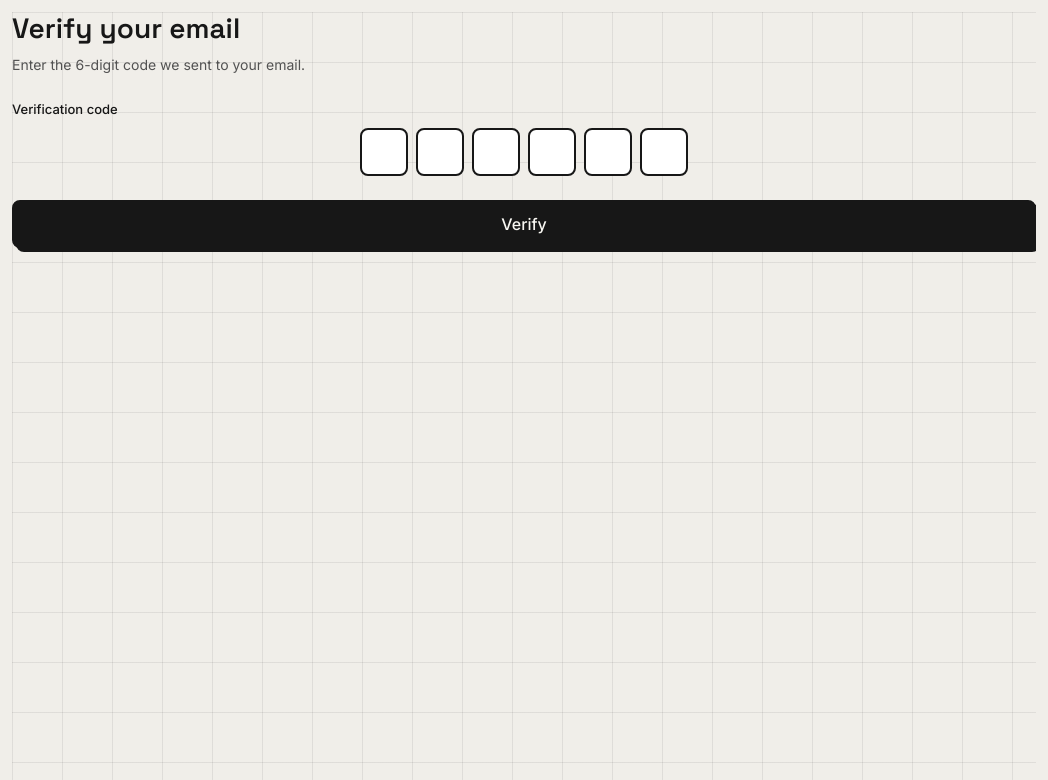
Scenario: OTPVerification › goes back and clears with Backspace on an empty box
The image size is (1048, 780).
Step 1. Click the field named "Digit 1 of 6" → [384, 152], box [362,130,406,174]
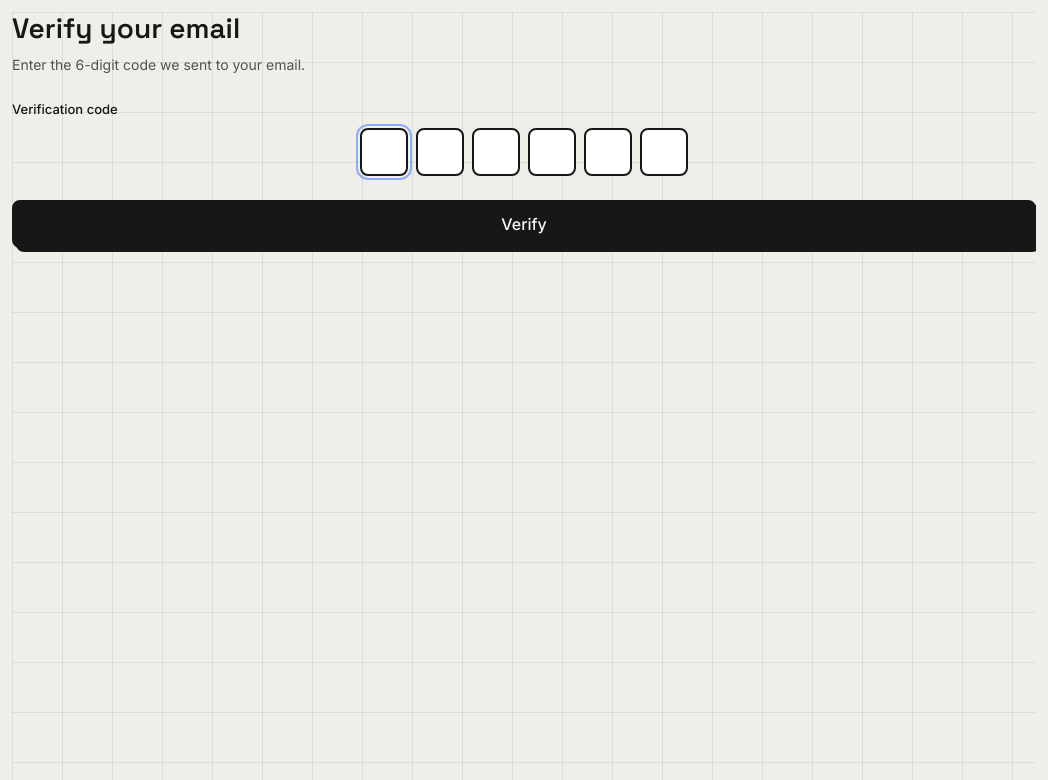
Step 2. Type keys "12"
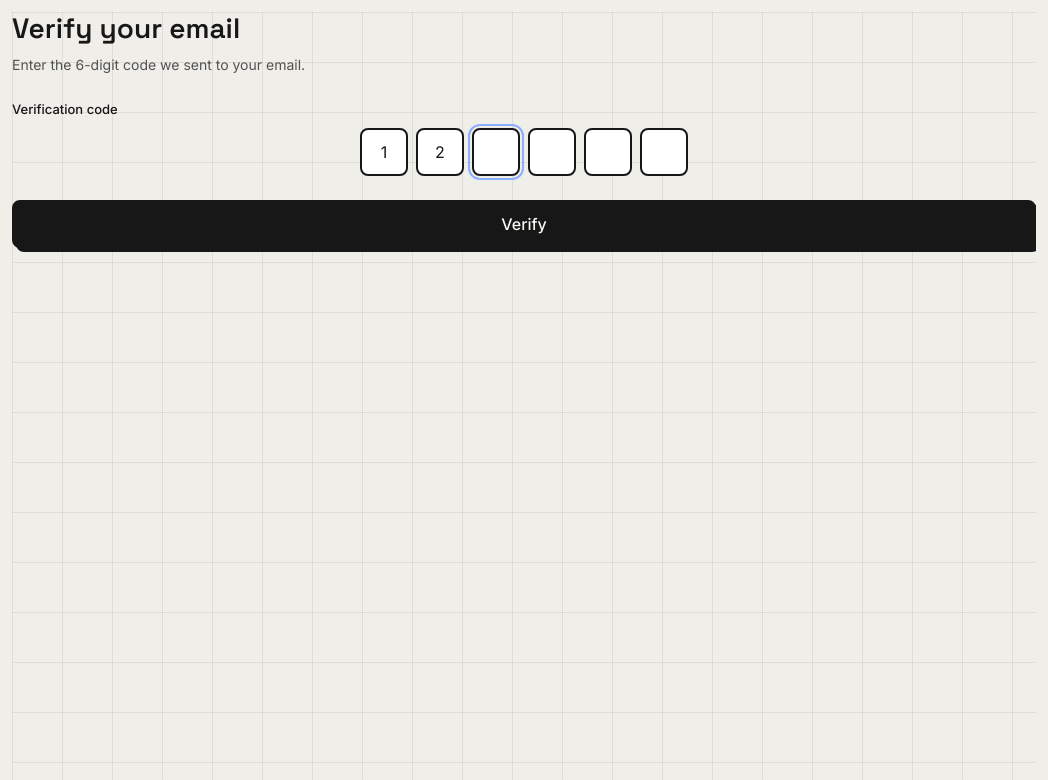
Step 3. Press Backspace
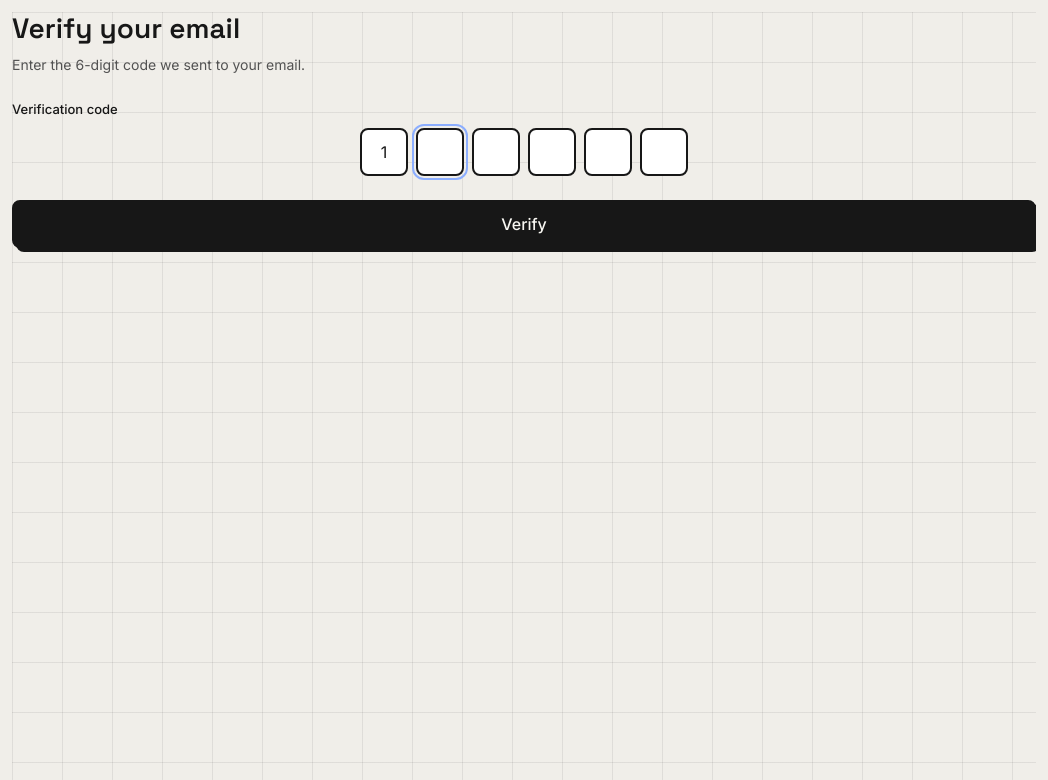
Result: the field named "Digit 1 of 6" holds "1" at [362,130,406,174]
Result: the field named "Digit 2 of 6" is empty at [418,130,462,174]
